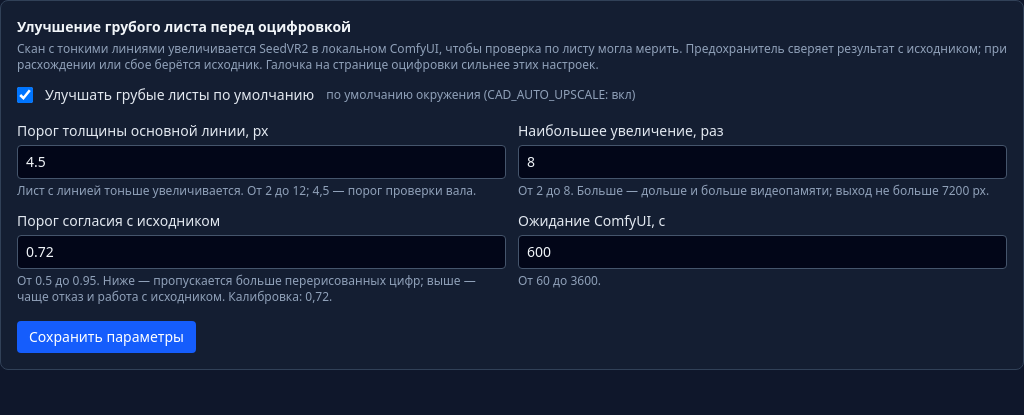
Test: UpscaleSettingsCard — улучшение грубого листа › выключение галочки сохраняет решение в настройках
Step 1. Click the checkbox → (25, 95), box [17,87,33,103]
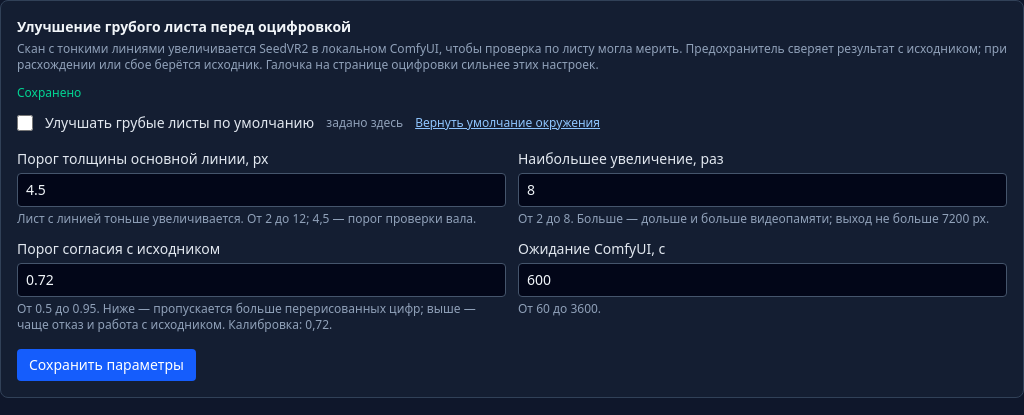
expect the checkbox is not checked: met, box [17,115,33,131]
expect the button "Вернуть умолчание окружения" is shown: met, box [415,115,600,131]
